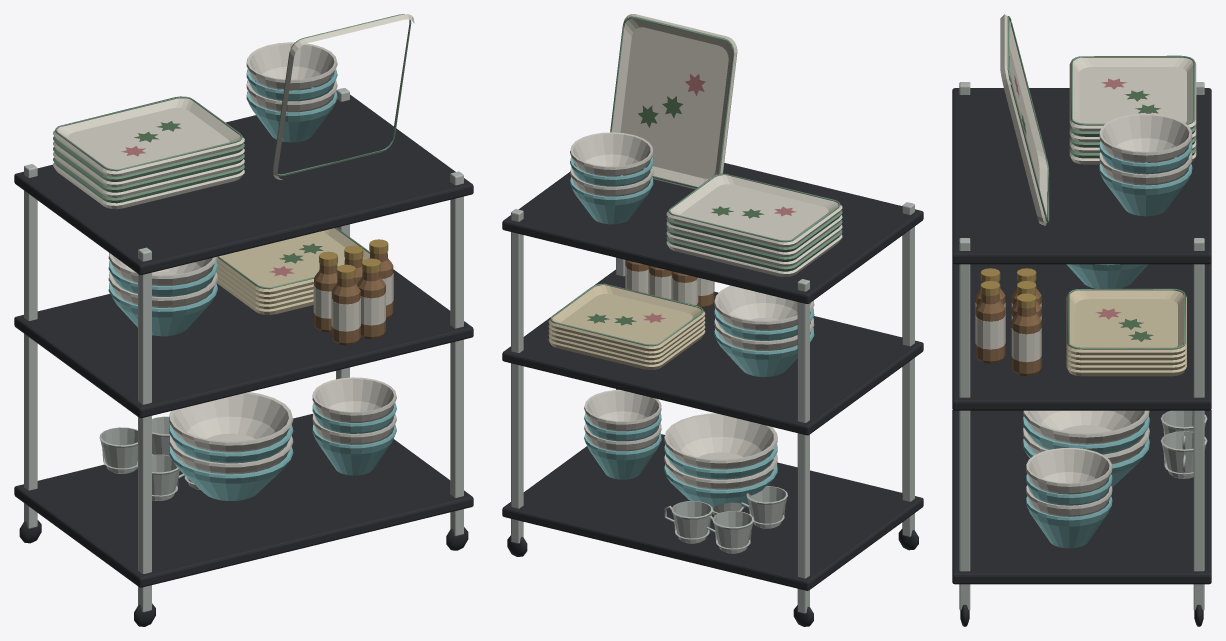
Rendered from trays.glb.
The picture shows the model from 3 angles, left to right: view 1: azimuth 30°, elevation 25°; view 2: azimuth 150°, elevation 25°; view 3: azimuth 270°, elevation 25°; orthographic projection. The views are drawn at different scales.
Visible parts, largest first — view 1: West_trays; view 2: West_trays; view 3: West_trays.
Part boxes in pixels (<box>): West_trays: <box>14,14,473,626</box>; West_trays: <box>502,14,923,626</box>; West_trays: <box>952,14,1211,626</box>.
Bounding box in the file's own units: 0.93 × 1.41 × 0.61.
